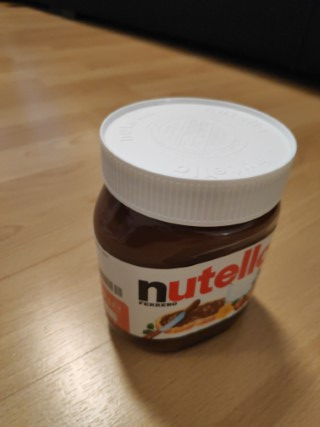nutella: (91, 94, 299, 356)
